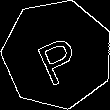P_NW: (30, 24, 85, 85)
